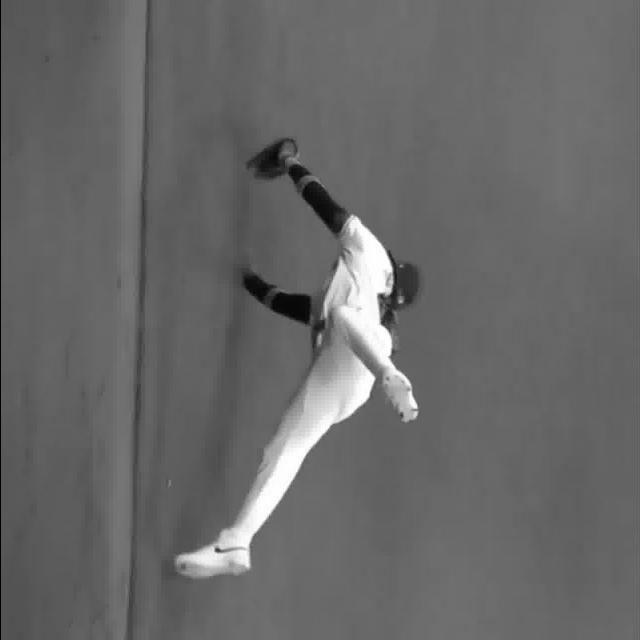baseball_glove: (240, 134, 299, 185)
shoe: (174, 539, 251, 586), (373, 366, 415, 423)
